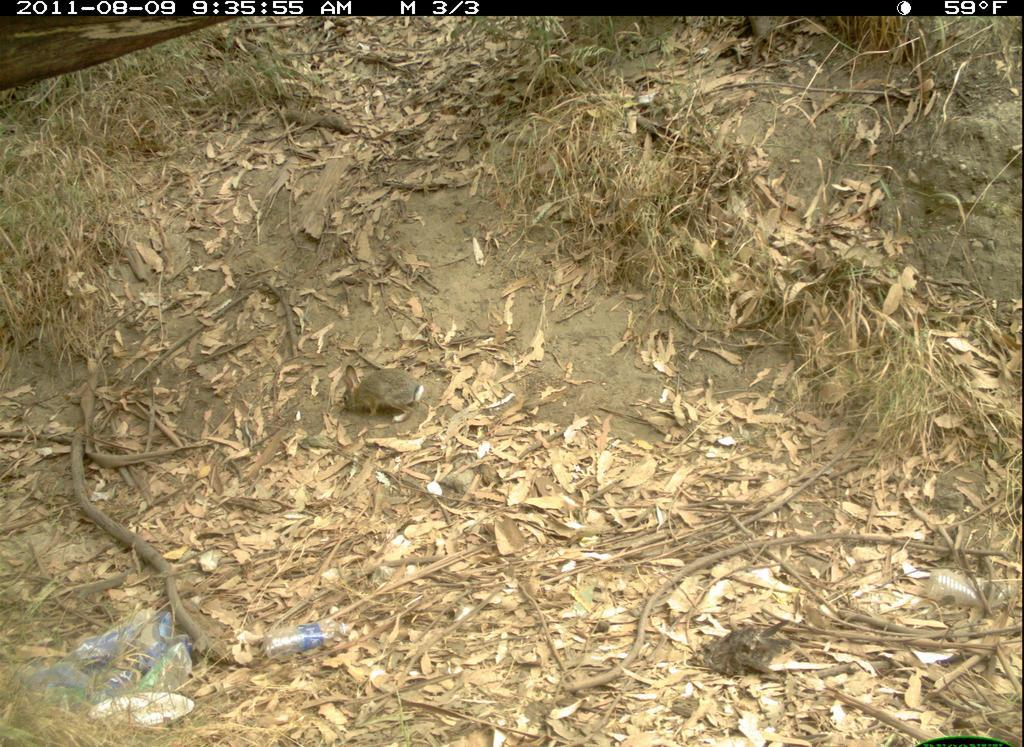rabbit: (336, 359, 428, 425)
